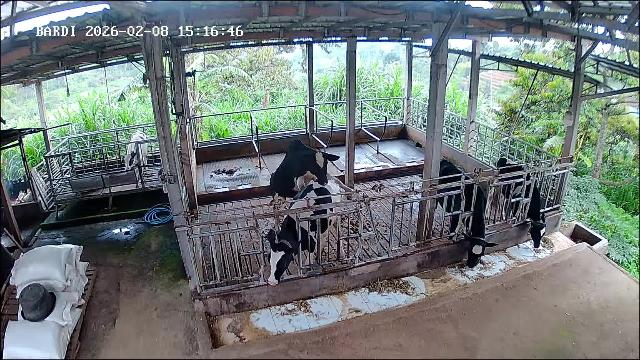mounting: (266, 140, 354, 222)
